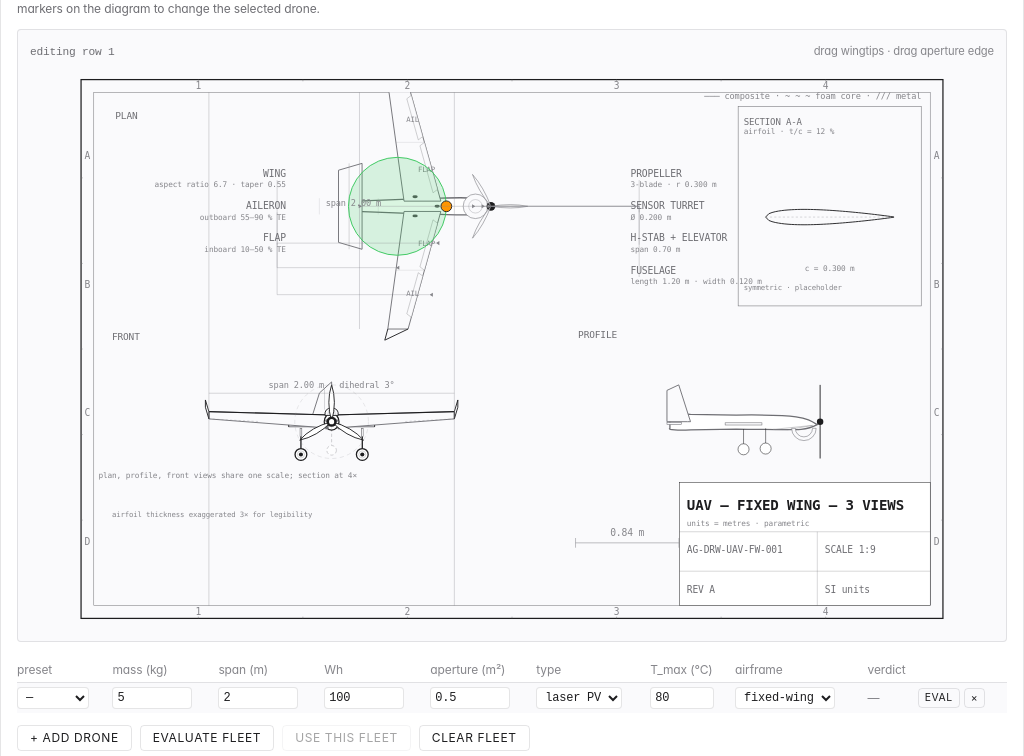
DesignStudio › add drone appends a row
(page scrolled)
Click the button "+ Add drone". click: point(74, 738)
box: [17,725,132,751]
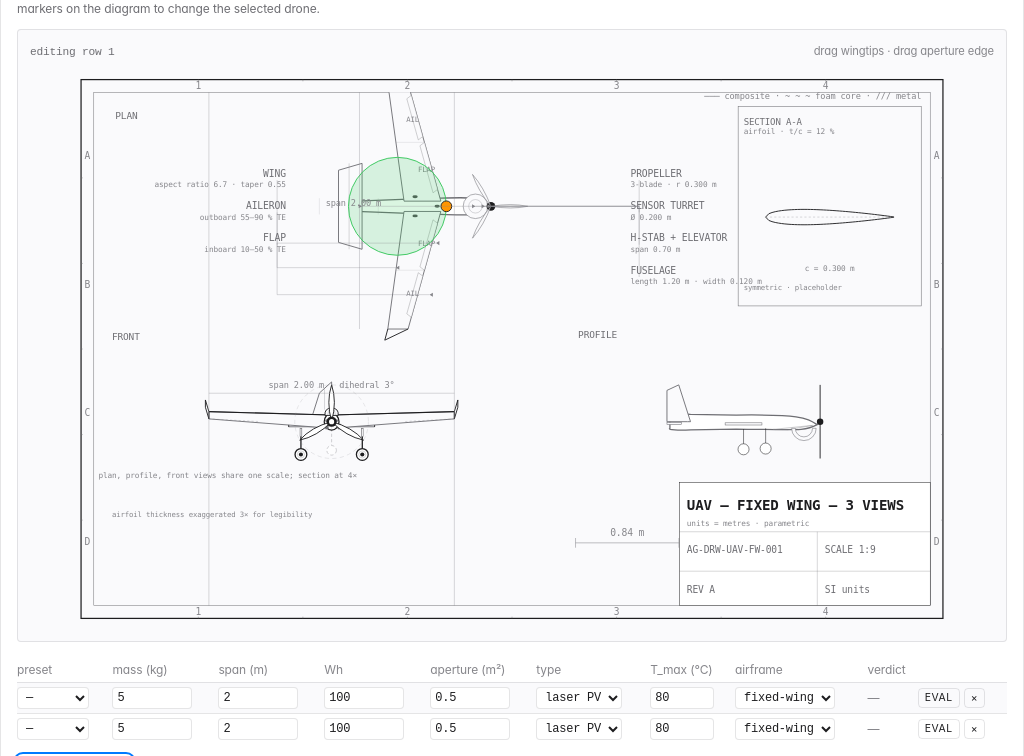
Expected: the number of number fields named "mass_kg" is 2, [112,687,192,709]; [112,718,192,740]
